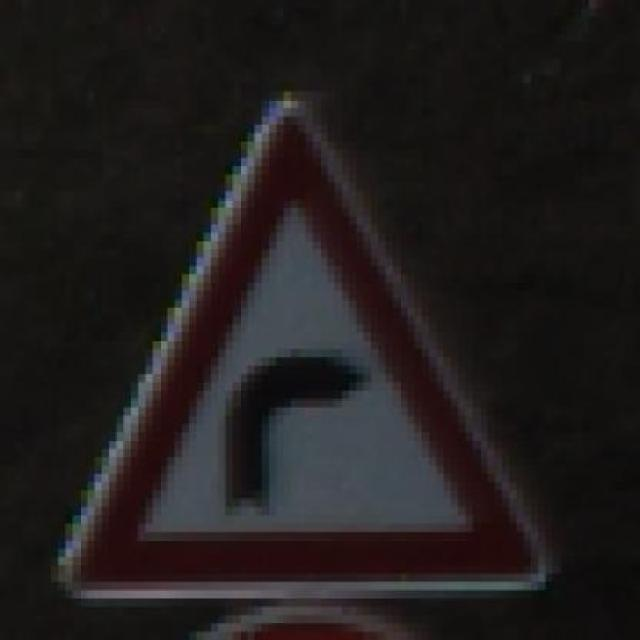Dangerous Rright Curve Ahead: (51, 75, 575, 614)
